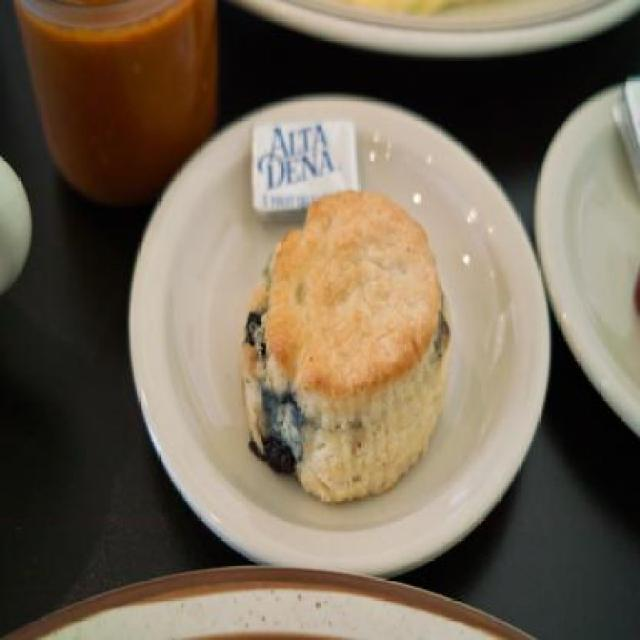Juice: (15, 0, 216, 202)
